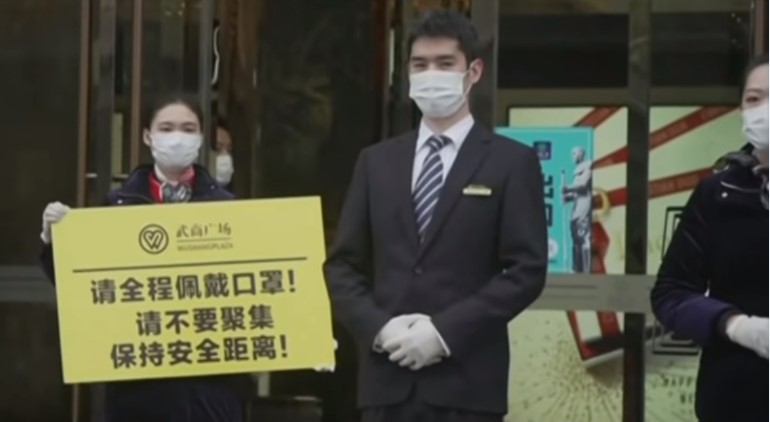face_with_mask: (404, 14, 485, 120), (138, 89, 206, 184), (738, 53, 768, 154)
